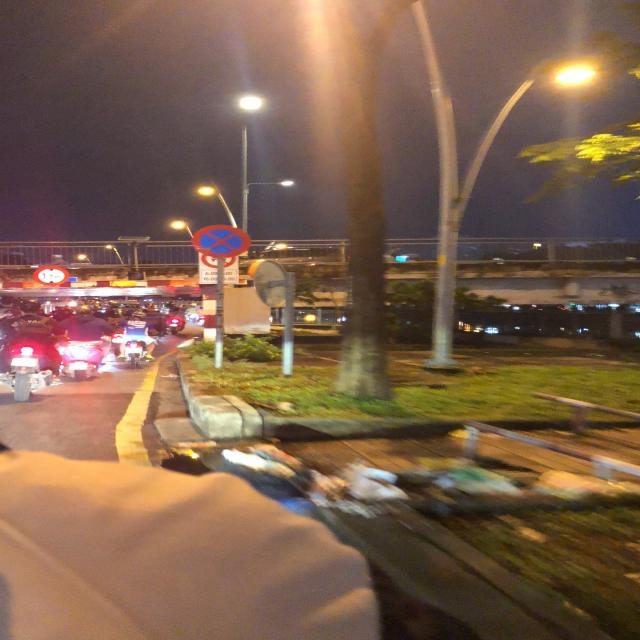Bien bao cam dung xe va do xe: (184, 224, 257, 260)
Bien bao han che chieu cao: (32, 265, 74, 286)
